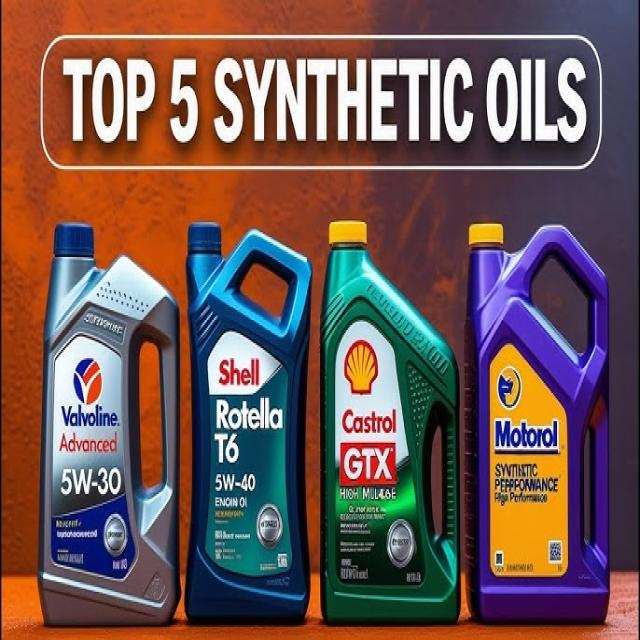motor_oil: (467, 209, 615, 626), (323, 205, 462, 617), (46, 215, 181, 626), (184, 206, 312, 630)
